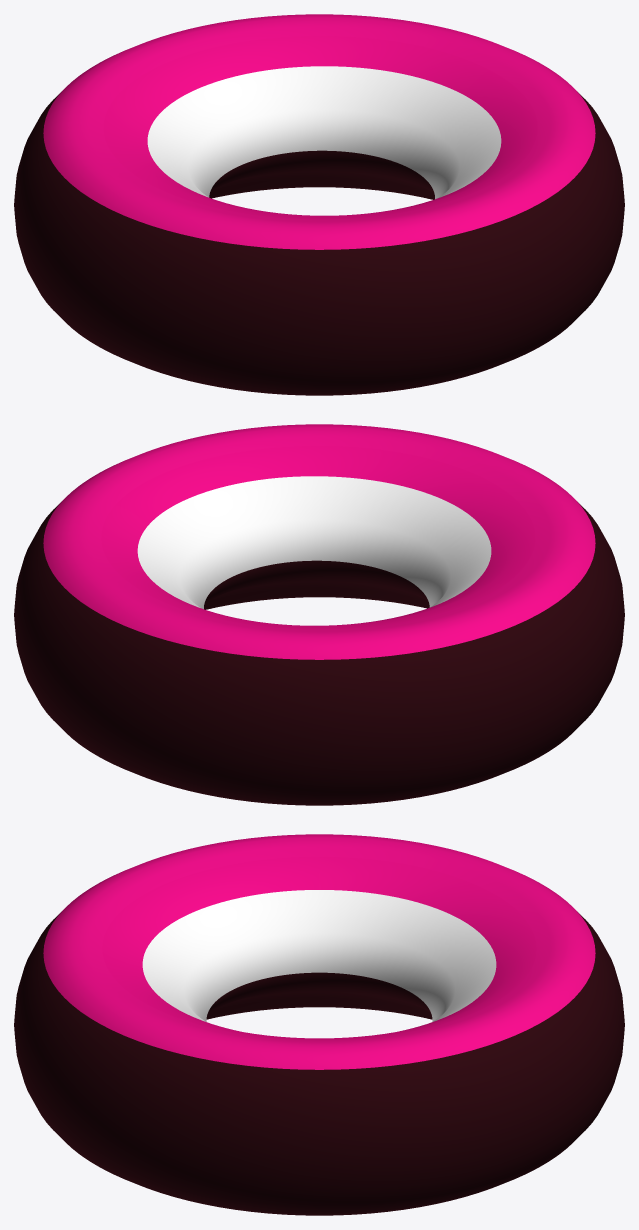
Rendered from donut.fbx.
The picture shows the model from 3 angles, top to bottom: view 1: azimuth 30°, elevation 25°; view 2: azimuth 150°, elevation 25°; view 3: azimuth 270°, elevation 25°; orthographic projection.
Parts seen in each view (by area): view 1: Torus; view 2: Torus; view 3: Torus.
Boxes of the visible parts, <box> form: Torus: <box>14,14,624,395</box>; Torus: <box>14,424,624,805</box>; Torus: <box>14,834,624,1215</box>.
Size of the model in its own units: 247 by 73.95 by 247.
1 material, 1 textured.
